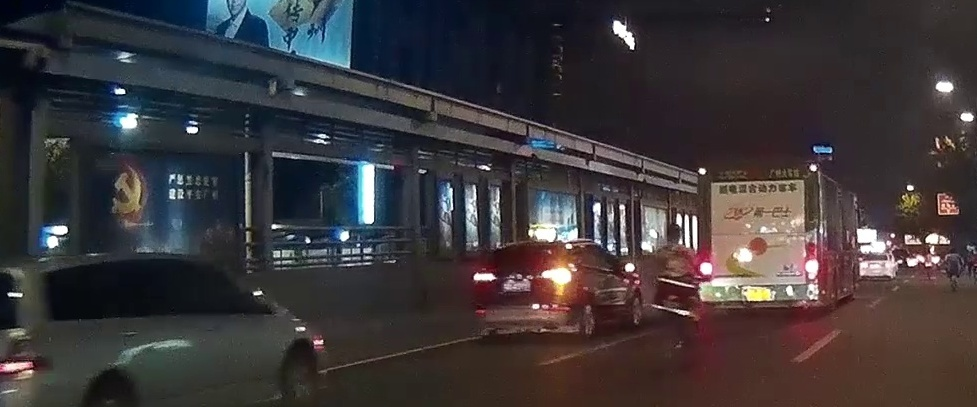L_light: (698, 244, 711, 281), (473, 271, 496, 285)
R_light: (805, 244, 819, 280), (541, 269, 572, 284)
T_light: (745, 173, 769, 181), (517, 244, 537, 250)
night-no: (697, 162, 820, 320)
night-right: (472, 240, 582, 339)
